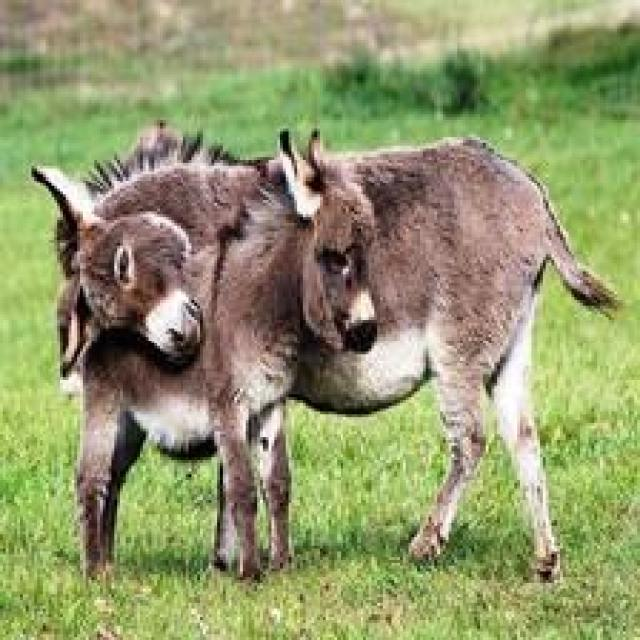Donkey: (37, 123, 623, 586), (29, 120, 297, 583)
